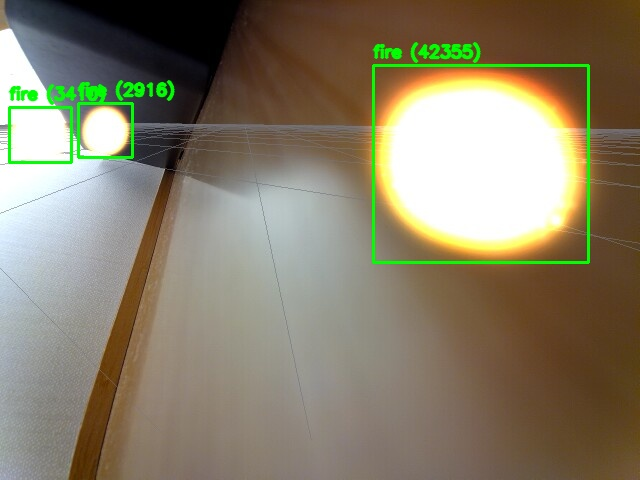fire: (373, 65, 588, 262), (9, 107, 71, 162), (78, 103, 132, 157)
